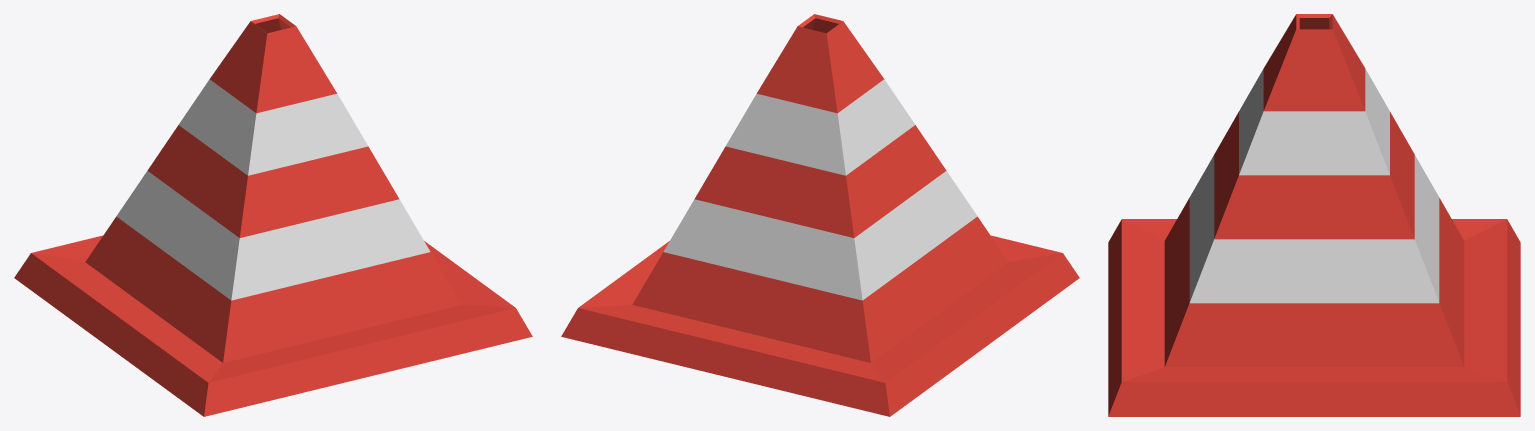
3 views of the same model, side by side, from view 1: azimuth 30°, elevation 25°; view 2: azimuth 150°, elevation 25°; view 3: azimuth 270°, elevation 25° (orthographic). The views are drawn at different scales.
Visible parts, largest first — view 1: Cube; view 2: Cube; view 3: Cube.
Part boxes in pixels (x1,y1,x2,y2): Cube: (14,14,532,416); Cube: (561,14,1079,416); Cube: (1108,14,1520,416).
Size of the model in its own units: 258 by 212 by 258.
